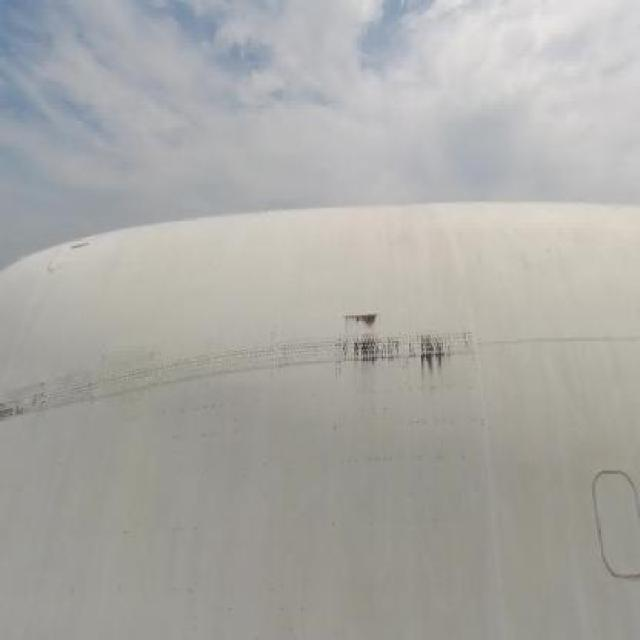Rust: (327, 296, 459, 398)
Scartch: (0, 366, 58, 430)
